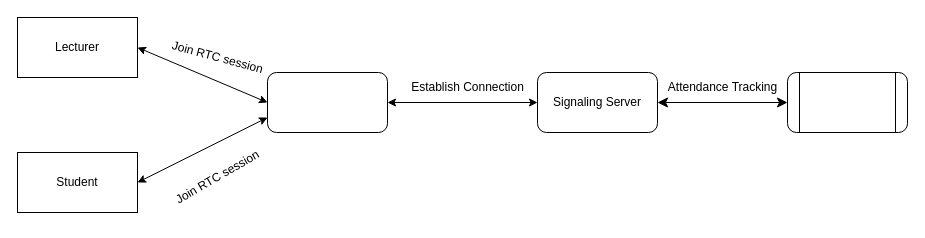
This 925x238 diagram has some shape labels left out. Here are the shapes that lost their labels. From the top down, the centre of each, then its label:
At pixel 327 102: "RTC API".
At pixel 847 102: "RTC session Data Store".
